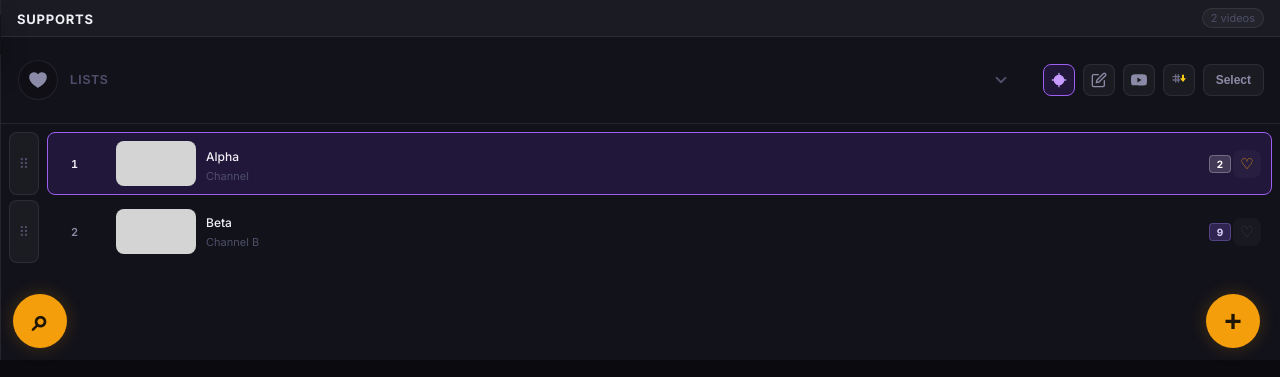
PlaylistSidebar › keeps the active row on the actually-playing track when sorted by rating, not whatever lands on its old position
Click the button named "Order by rating".
click(1179, 80)  # box 1163,64 -> 1195,96
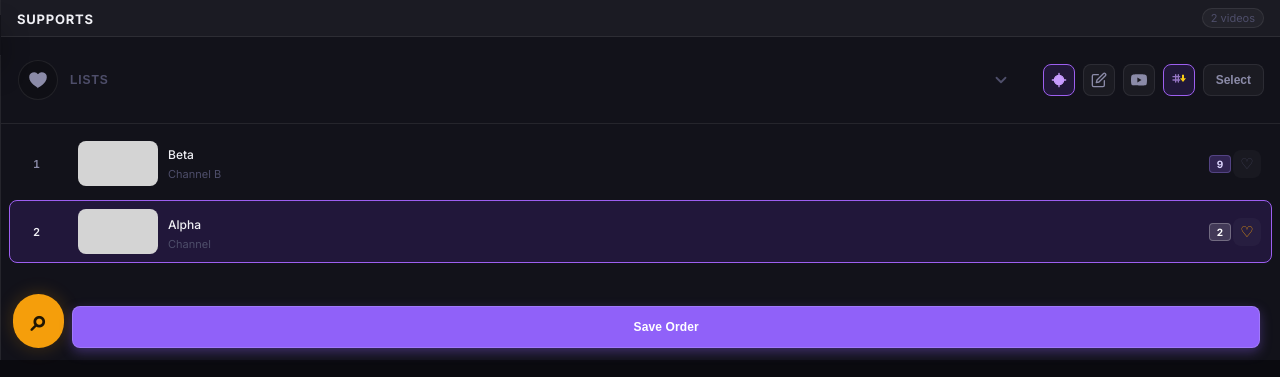
expect the button "2 Alpha Channel 2 ♡" is shown: met, box 9,200 -> 1272,263
expect the button "1 Beta Channel B 9 ♡" is shown: met, box 9,132 -> 1272,195
